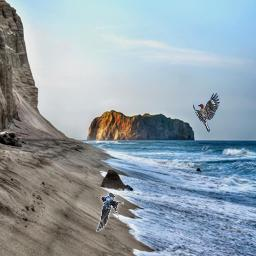Swallow: (96, 192, 124, 232)
Woodpecker: (193, 93, 220, 133)
